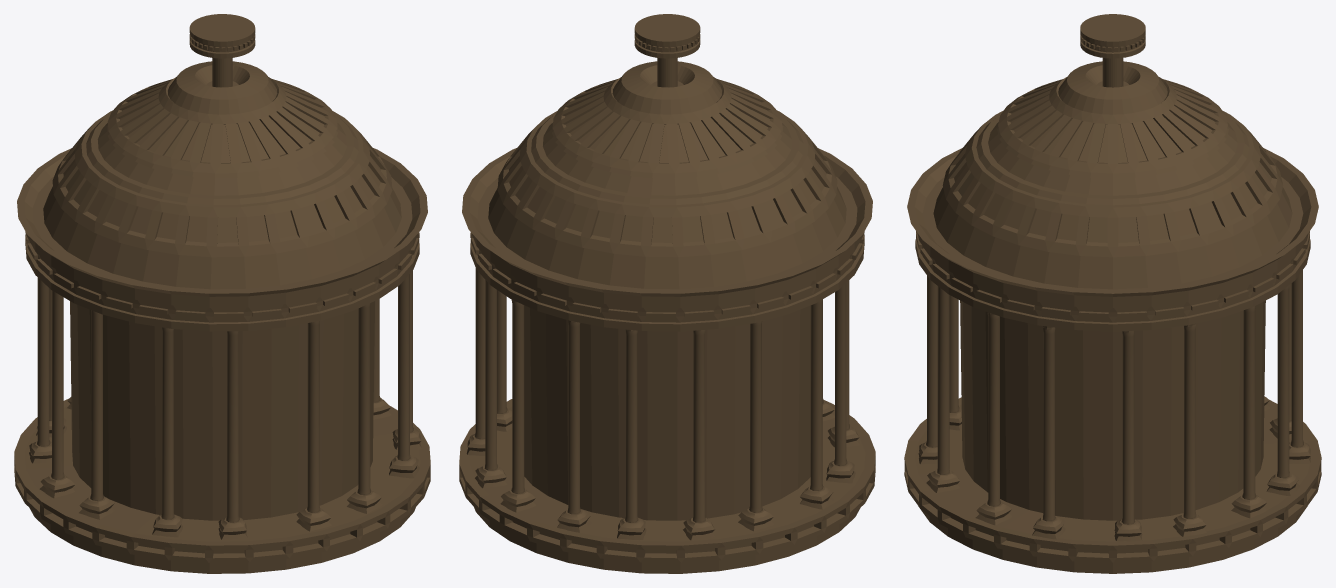
Rendered from templo01.fbx.
The picture shows the model from 3 angles, left to right: view 1: azimuth 30°, elevation 25°; view 2: azimuth 150°, elevation 25°; view 3: azimuth 270°, elevation 25°; orthographic projection.
Visible parts, largest first — view 1: templo1; view 2: templo1; view 3: templo1.
Boxes of the visible parts, x1,y1,x2,y2 form: templo1: [14, 14, 430, 573]; templo1: [459, 14, 875, 573]; templo1: [904, 14, 1321, 573].
Size of the model in its own units: 675 by 825 by 675.
